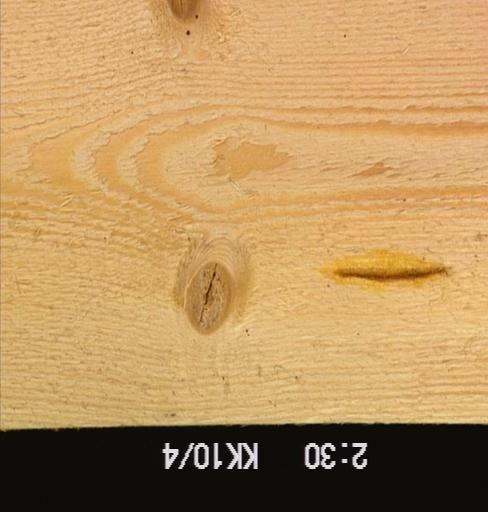edge_knot: (159, 0, 204, 39)
sound_knot: (182, 257, 235, 337)
